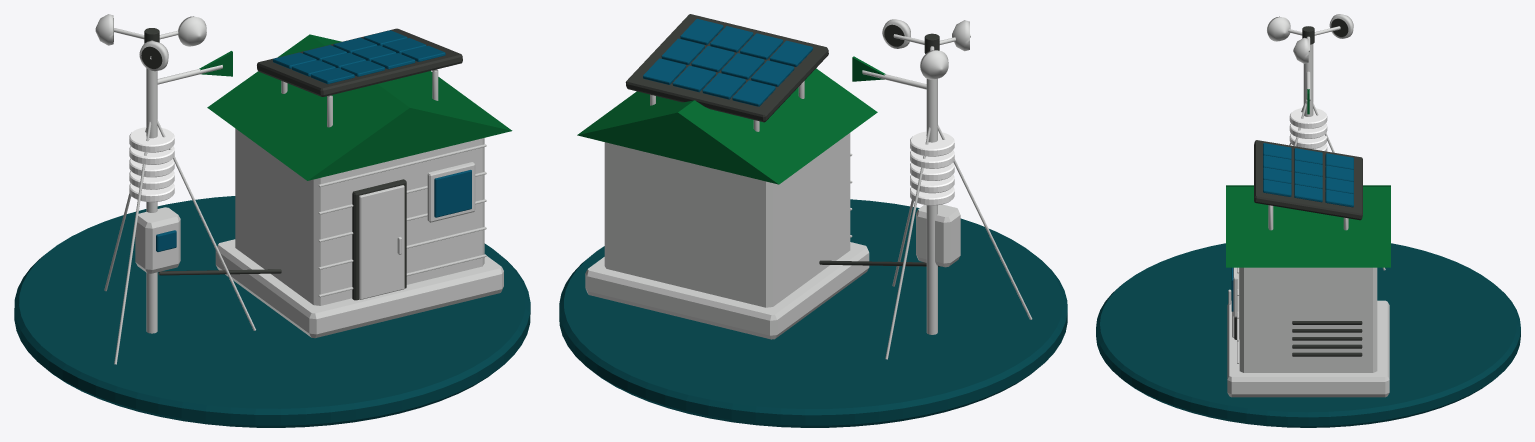
File: field-site.glb
3 renders of one model, left to right at view 1: azimuth 30°, elevation 25°; view 2: azimuth 150°, elevation 25°; view 3: azimuth 270°, elevation 25°, orthographic. The views are drawn at different scales.
Visible parts, largest first — view 1: body, pedestal; view 2: body, pedestal; view 3: body, pedestal.
Part boxes in pixels (<box>): body: <box>95,14,512,364</box>; pedestal: <box>14,196,530,427</box>; body: <box>577,14,1032,359</box>; pedestal: <box>559,199,1067,427</box>; body: <box>1226,14,1390,397</box>; pedestal: <box>1096,243,1520,427</box>.
Size of the model in its own units: 4.4 by 3.06 by 4.4.
